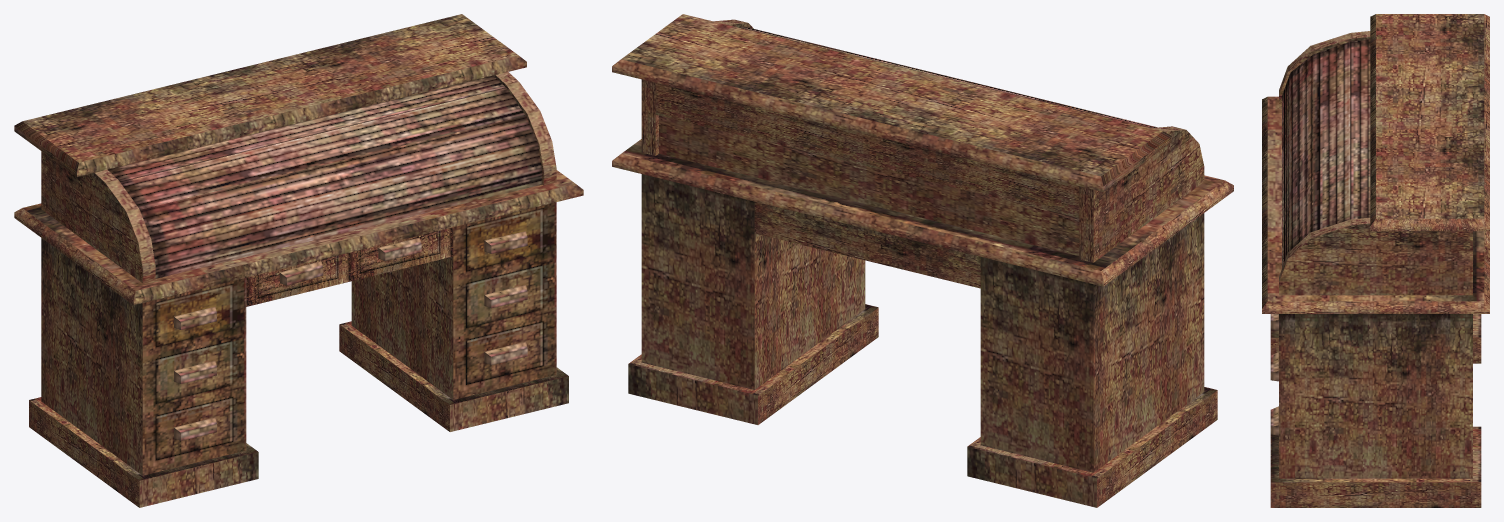
Rendered from desk_rolltop_slum.fbx.
3 views of the same model, side by side, from view 1: azimuth 30°, elevation 25°; view 2: azimuth 150°, elevation 25°; view 3: azimuth 270°, elevation 25° (orthographic). The views are drawn at different scales.
Visible parts, largest first — view 1: mesh_8, mesh_17, mesh_5, mesh_1, mesh_0, mesh_16, mesh_2, mesh_18, mesh_3, mesh_4, mesh_11, mesh_9 (+6 smaller); view 2: mesh_17, mesh_5, mesh_1, mesh_8, mesh_0, mesh_6, mesh_18, mesh_2, mesh_16, mesh_3, mesh_4; view 3: mesh_1, mesh_5, mesh_8, mesh_4, mesh_0, mesh_2, mesh_16, mesh_18.
Part boxes in pixels (box(x1,y1,x2,y2)): mesh_8: box(108, 75, 542, 278); mesh_17: box(41, 238, 246, 475); mesh_5: box(14, 14, 526, 176); mesh_1: box(351, 202, 556, 399); mesh_0: box(14, 170, 583, 305); mesh_16: box(41, 151, 155, 283); mesh_2: box(339, 321, 568, 431); mesh_18: box(29, 397, 258, 507); mesh_3: box(246, 227, 453, 306); mesh_4: box(493, 72, 556, 185); mesh_11: box(279, 261, 323, 285); mesh_9: box(484, 285, 527, 308); mesh_17: box(980, 213, 1204, 472); mesh_5: box(612, 14, 1171, 191); mesh_1: box(641, 174, 865, 389); mesh_8: box(659, 27, 1157, 255); mesh_0: box(612, 139, 1233, 286); mesh_6: box(655, 83, 1079, 217); mesh_18: box(967, 387, 1217, 507); mesh_2: box(628, 304, 878, 424); mesh_16: box(1079, 126, 1204, 262); mesh_3: box(754, 201, 980, 288); mesh_4: box(641, 19, 753, 155); mesh_1: box(1279, 314, 1472, 478); mesh_5: box(1370, 14, 1489, 231); mesh_8: box(1282, 39, 1370, 267); mesh_4: box(1279, 217, 1472, 295); mesh_0: box(1262, 96, 1489, 313); mesh_2: box(1270, 426, 1481, 507); mesh_16: box(1279, 31, 1370, 108); mesh_18: box(1270, 314, 1481, 363).
Size of the model in its own units: 174 by 113 by 80.
Materials: 1 (1 with a texture image).
